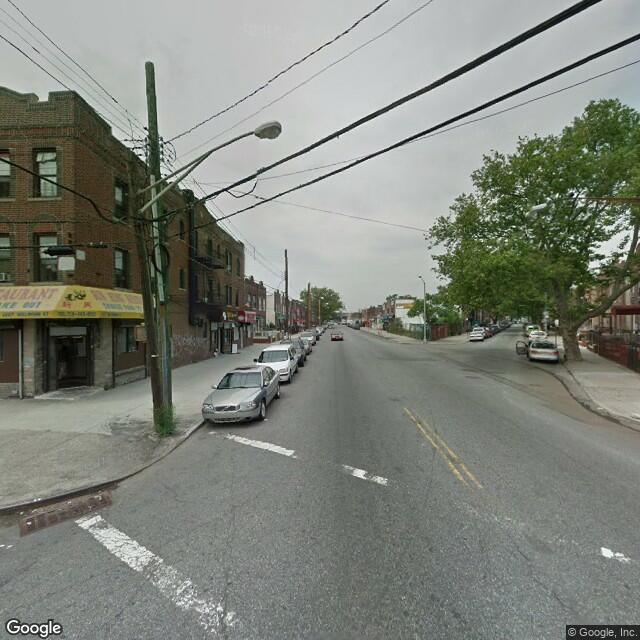litter: (94, 494, 106, 500), (26, 519, 35, 523), (18, 511, 20, 514)
